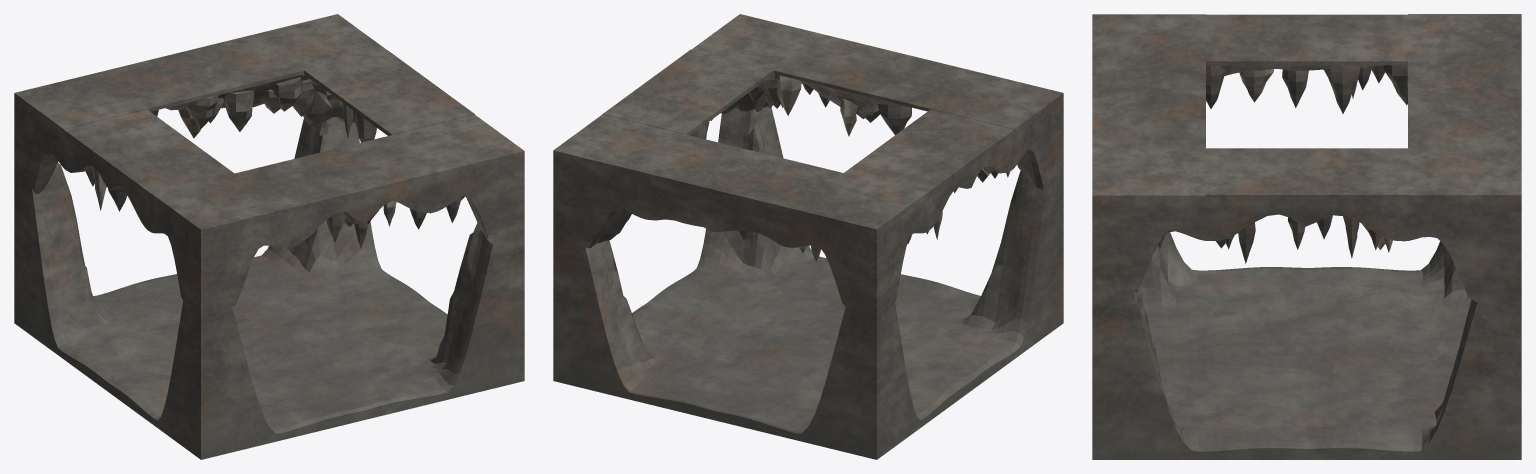
Rendered from dungeon_cave_open_b.glb.
3 renders of one model, left to right at view 1: azimuth 30°, elevation 25°; view 2: azimuth 150°, elevation 25°; view 3: azimuth 270°, elevation 25°, orthographic. The views are drawn at different scales.
Visible parts, largest first — view 1: dungeon_cave_open_b; view 2: dungeon_cave_open_b; view 3: dungeon_cave_open_b.
Boxes of the visible parts, x1,y1,x2,y2 form: dungeon_cave_open_b: [14, 14, 524, 459]; dungeon_cave_open_b: [553, 14, 1063, 459]; dungeon_cave_open_b: [1092, 14, 1521, 459].
Bounding box in the file's own units: 5.05 × 3.44 × 5.05.
Materials: 1 (1 with a texture image).
